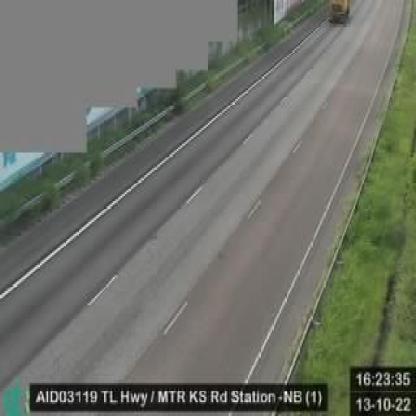Truck: (328, 0, 350, 23)
